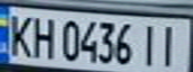0: (57, 16, 81, 62)
3: (97, 18, 118, 65)
4: (78, 17, 100, 63)
6: (115, 19, 139, 66)
H: (27, 12, 57, 60)
I: (154, 21, 187, 69), (136, 20, 163, 68)
K: (3, 11, 36, 58)
